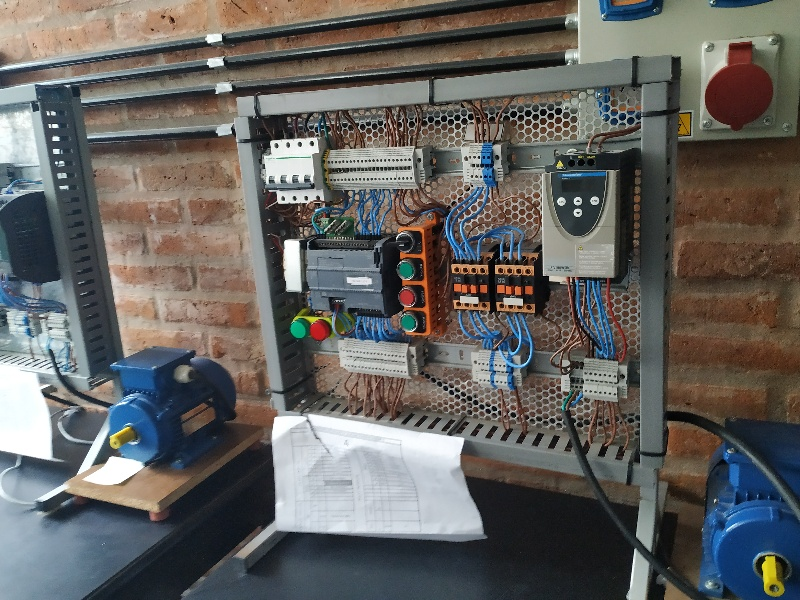Tablero 4: (246, 100, 649, 452)
